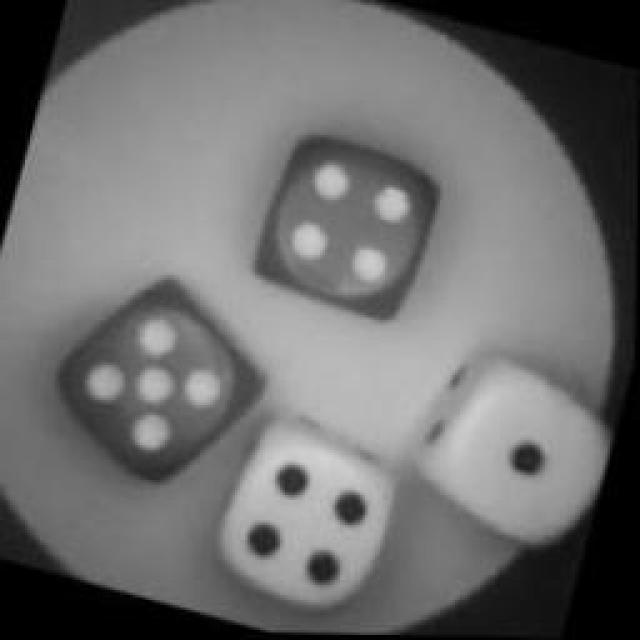dice_1: (399, 339, 629, 556)
dice_4: (234, 116, 456, 339), (205, 406, 415, 624)
dice_5: (28, 248, 298, 518)
